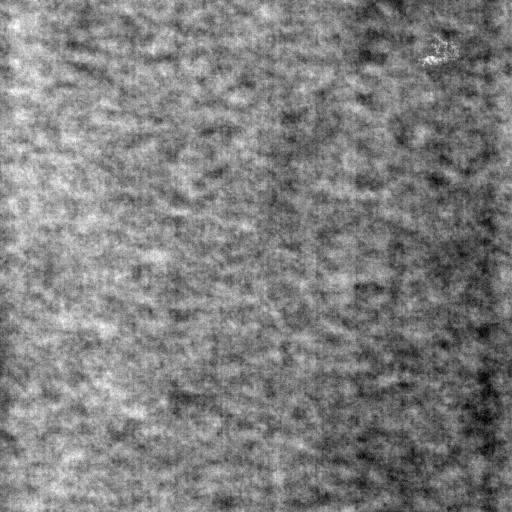DefectTypeA: (419, 34, 458, 68)
